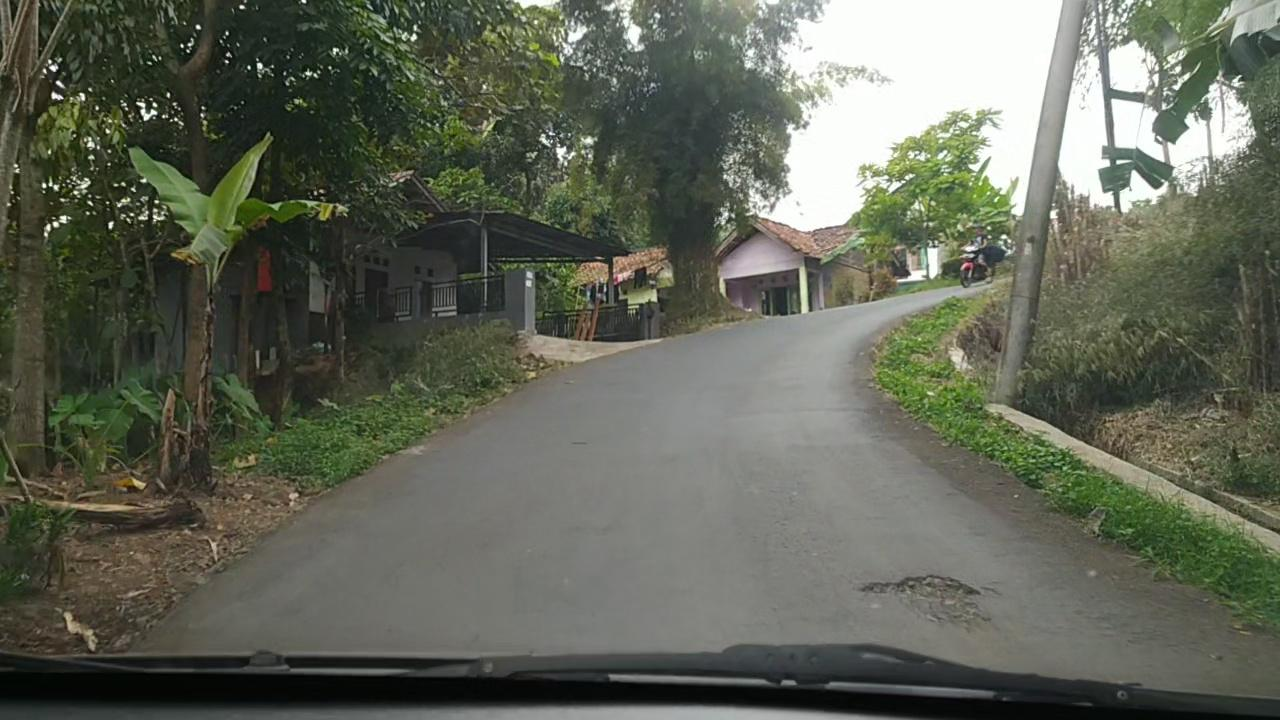pothole: (862, 573, 988, 625)
